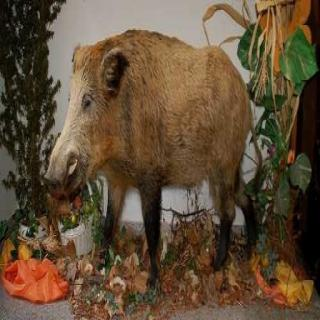Pig: (32, 12, 260, 284)
